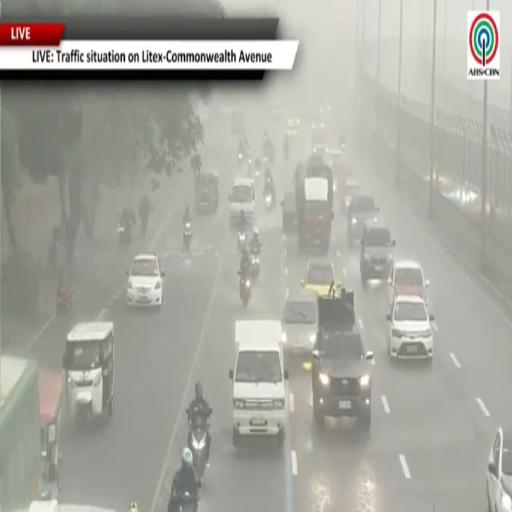car: (312, 331, 373, 429), (387, 296, 434, 360), (360, 219, 395, 284), (283, 294, 317, 356), (127, 253, 164, 308), (487, 428, 511, 511), (388, 261, 429, 306), (347, 196, 379, 246), (300, 261, 339, 296), (329, 149, 349, 193), (338, 178, 362, 211), (313, 144, 329, 163), (286, 118, 299, 138), (330, 149, 344, 166), (311, 120, 325, 130)
motorcycle: (188, 413, 208, 479), (179, 492, 199, 511), (57, 286, 71, 313), (240, 276, 251, 309), (118, 221, 131, 247), (251, 252, 260, 280), (183, 221, 191, 250), (264, 191, 275, 210), (238, 231, 247, 251), (141, 215, 148, 236), (254, 158, 261, 178), (248, 156, 253, 177), (284, 146, 290, 161), (238, 153, 244, 167), (262, 155, 268, 166)
truck: (312, 288, 373, 429), (230, 320, 287, 446), (0, 356, 41, 510), (295, 155, 333, 251), (282, 191, 296, 234)
